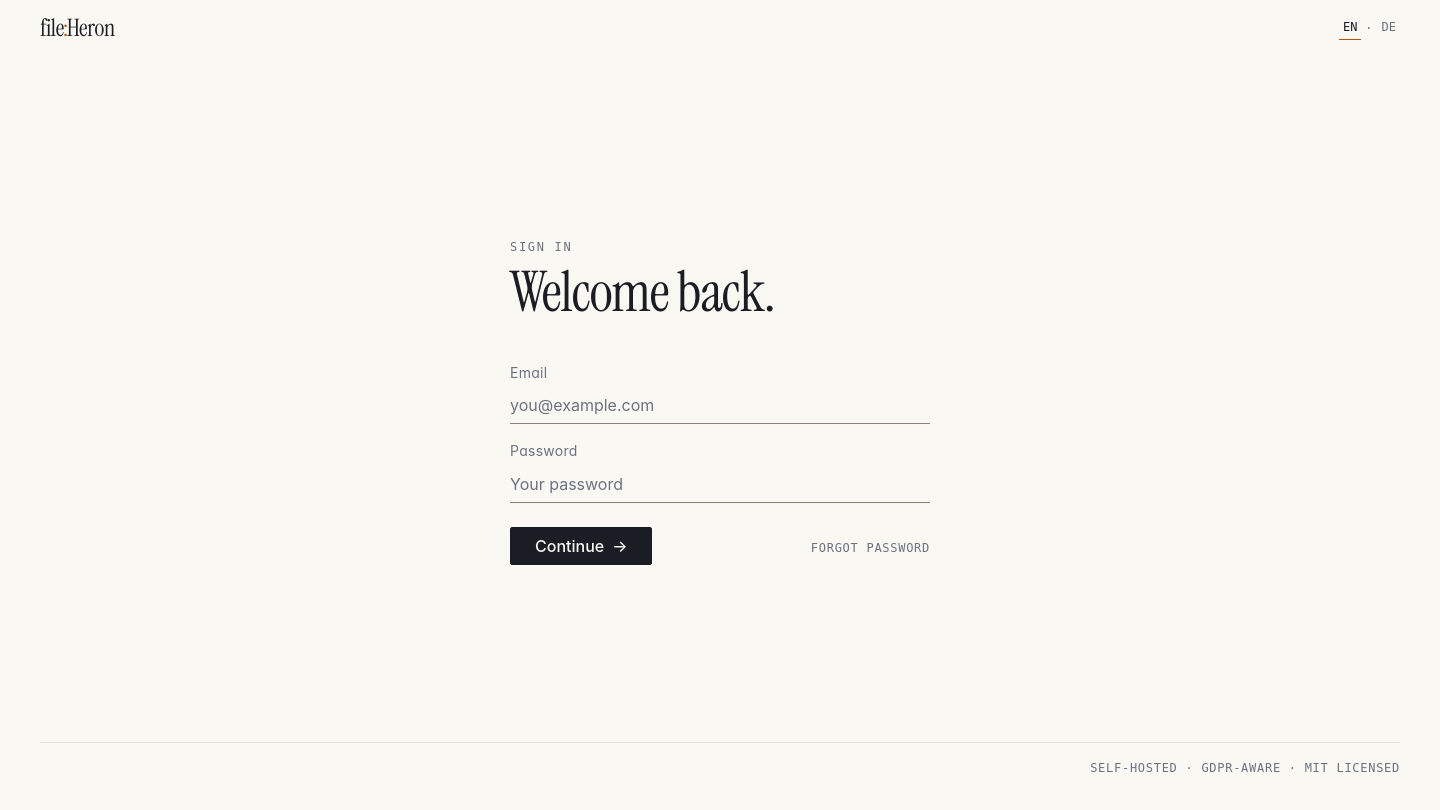
Test: Login with passkey sign-in › explains a passkey step this browser cannot take
Type "pk@example.com" into the field with id "login-email".
click(720, 406); type("pk@example.com")  # box [510, 387, 930, 424]
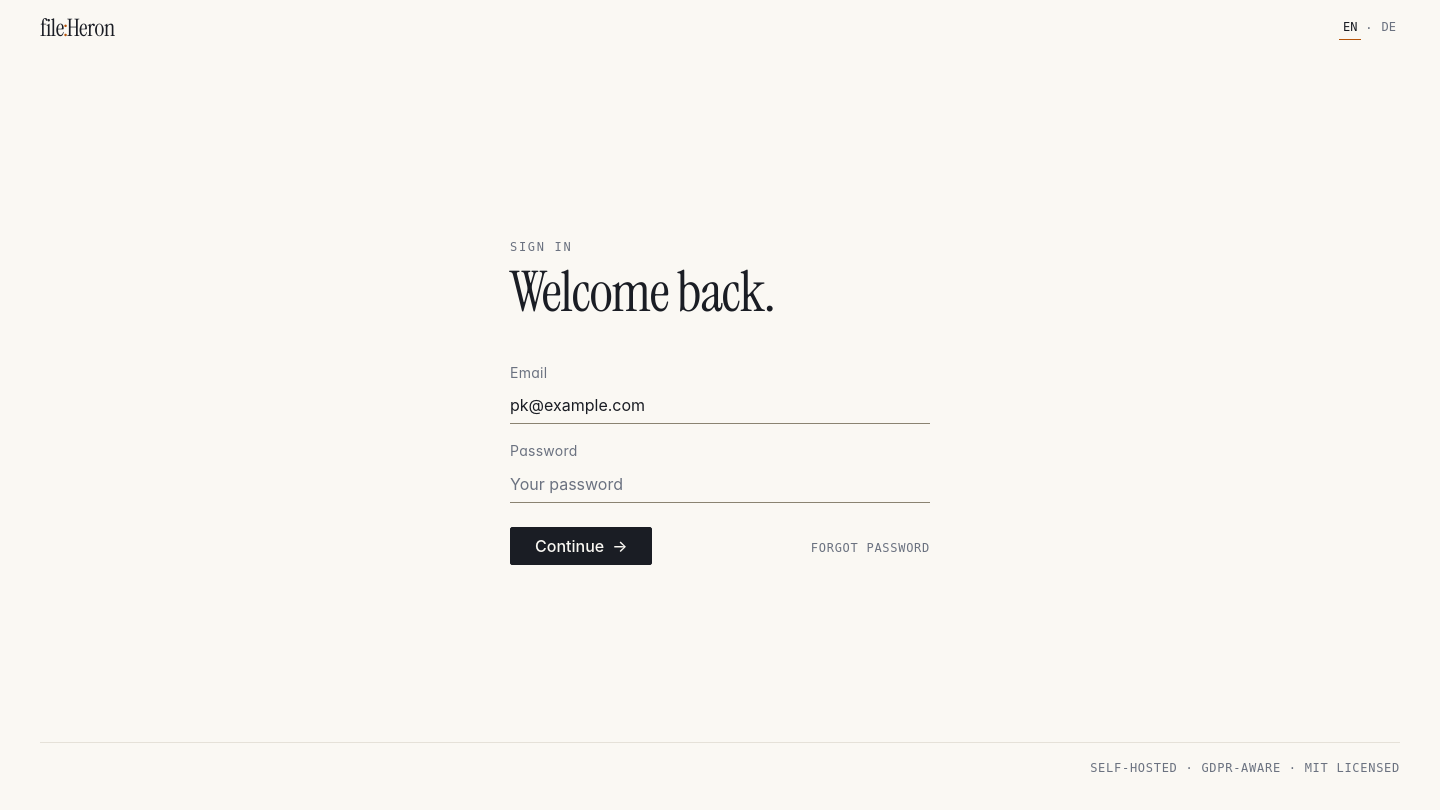
Type "pw" into the password field with id "login-password".
click(720, 484); type("pw")  # box [510, 466, 930, 503]
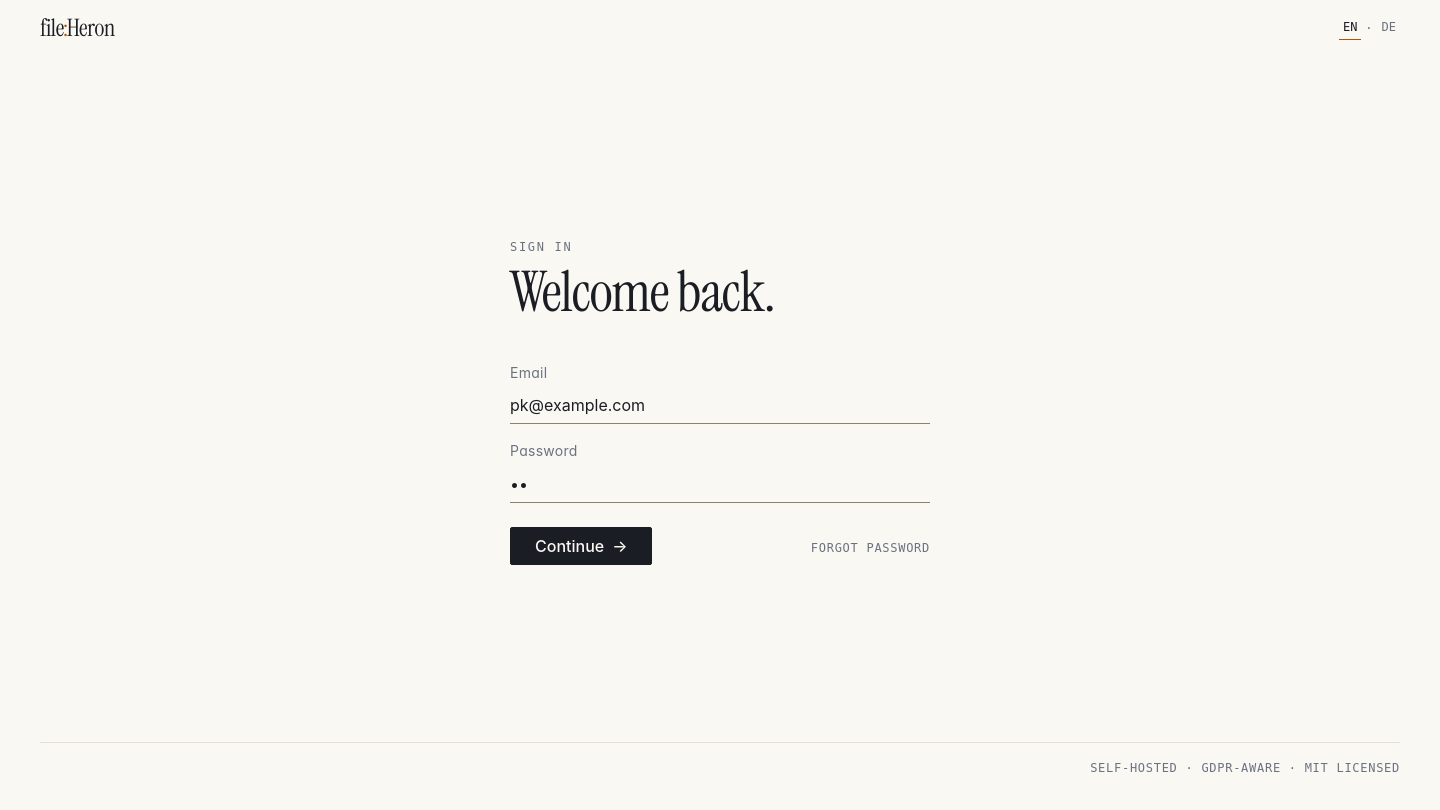
Submit the form, box [510, 362, 930, 565]
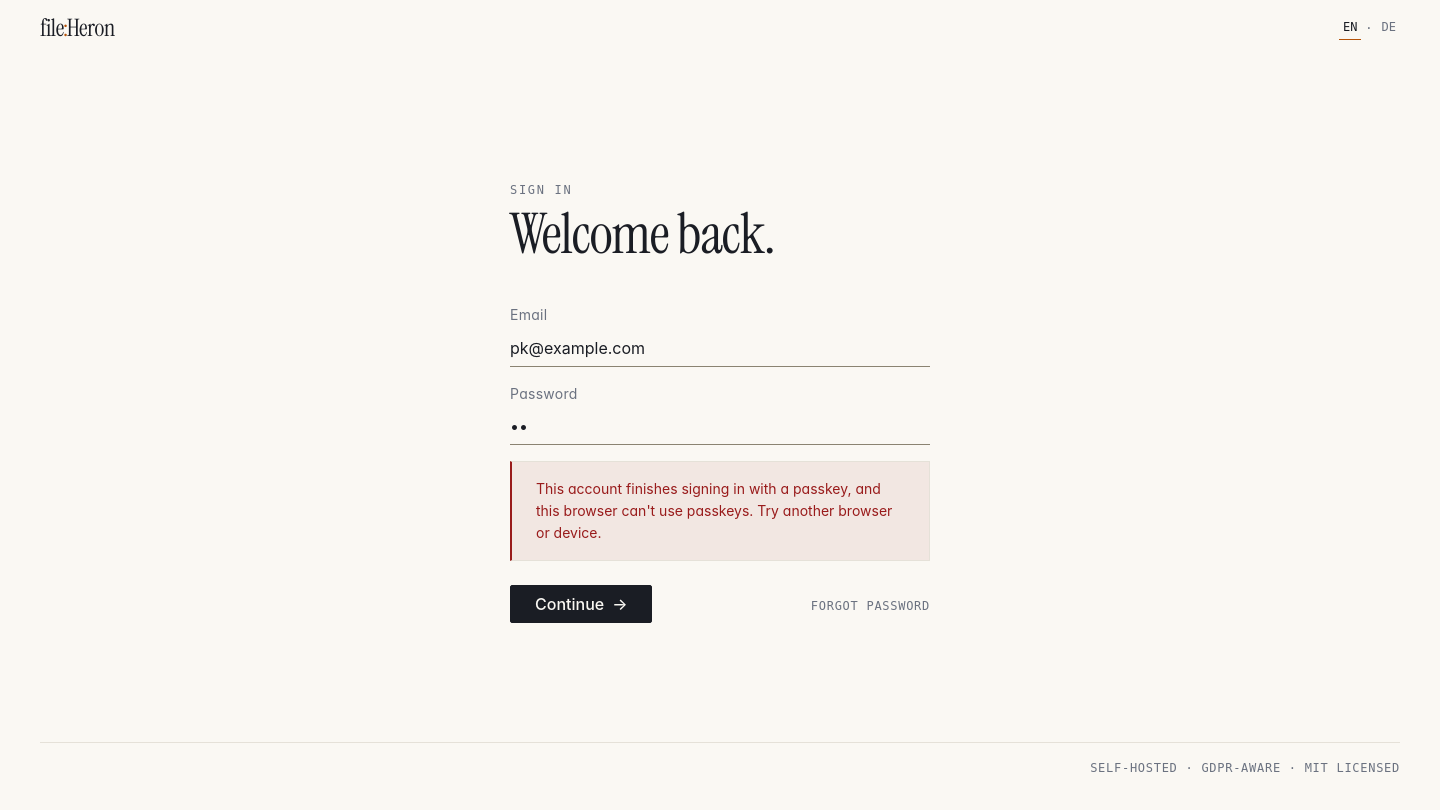
Result: the message shows "This account finishes signing in with a passkey, and this browser can't use passkeys. Try another browser or device." at [536, 480, 892, 541]
